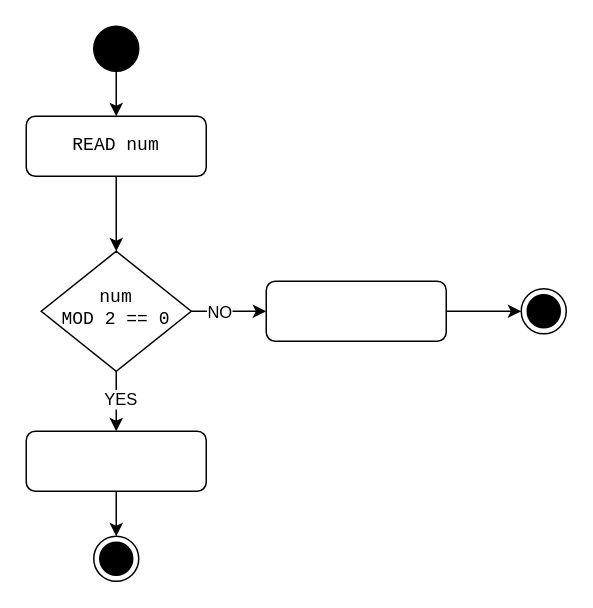
Image size: 593x608. Some labels were removed from this diagram. The centre of each missing label's shape, as x and y in pixels:
PRINT "even: point 115,460
PRINT "Odd": point 355,310
